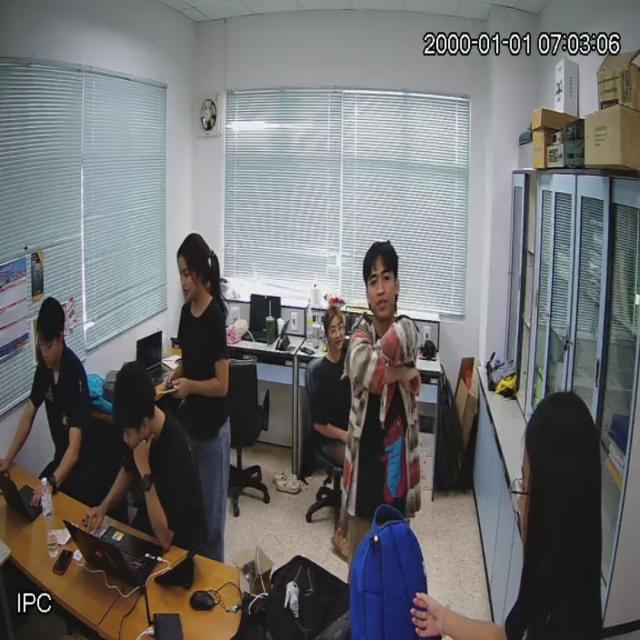normal: (351, 233, 426, 555), (164, 214, 232, 564), (114, 362, 207, 572), (28, 290, 106, 516)
